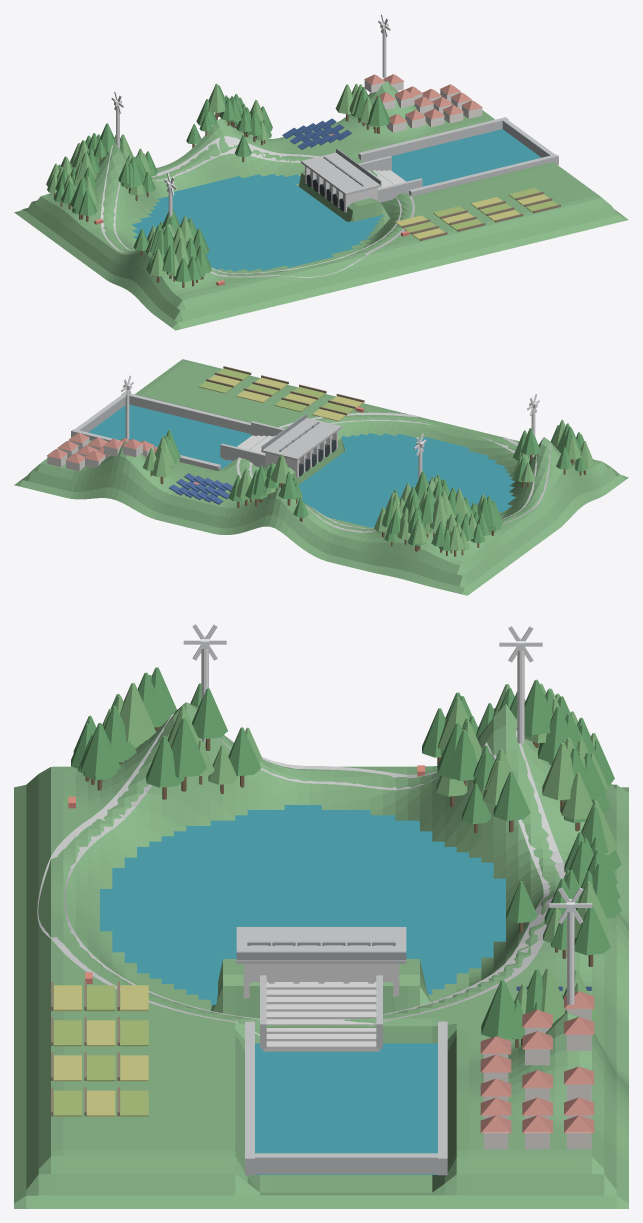
The model's file is dam.glb.
The picture shows the model from 3 angles, top to bottom: view 1: azimuth 30°, elevation 25°; view 2: azimuth 150°, elevation 25°; view 3: azimuth 270°, elevation 25°; orthographic projection. The views are drawn at different scales.
Visible parts, largest first — view 1: Terrain, Water_Surface_Reservoir, Trees, Water_Surface_Pool, RingRoad, PoolRim_N, Dam_Deck, PoolRim_S, PoolEnd, SpillWall_S; view 2: Terrain, Trees, Water_Surface_Reservoir, Water_Surface_Pool, Dam_Deck, PoolRim_S, RingRoad, PoolEnd, SpillWall_N, PoolRim_N, SpillWall_S; view 3: Terrain, Water_Surface_Reservoir, Trees, Water_Surface_Pool, RingRoad, Dam_Deck, PoolEnd, Dam_Body, PoolRim_N, PoolRim_S, Dam_Rail_N, SpillStep_09 (+6 smaller).
Part boxes in pixels (bbox=[...]): Terrain: bbox=[14, 81, 628, 330]; Water_Surface_Reservoir: bbox=[132, 174, 384, 271]; Trees: bbox=[46, 83, 390, 287]; Water_Surface_Pool: bbox=[391, 129, 541, 186]; RingRoad: bbox=[100, 136, 414, 277]; PoolRim_N: bbox=[358, 117, 508, 162]; Dam_Deck: bbox=[301, 152, 381, 195]; PoolRim_S: bbox=[409, 154, 558, 196]; PoolEnd: bbox=[500, 117, 557, 162]; SpillWall_S: bbox=[377, 178, 422, 202]; Terrain: bbox=[14, 359, 628, 595]; Trees: bbox=[142, 419, 594, 556]; Water_Surface_Reservoir: bbox=[276, 433, 516, 527]; Water_Surface_Pool: bbox=[88, 404, 251, 469]; Dam_Deck: bbox=[261, 418, 341, 460]; PoolRim_S: bbox=[121, 392, 250, 433]; RingRoad: bbox=[236, 412, 550, 532]; PoolEnd: bbox=[72, 393, 125, 434]; SpillWall_N: bbox=[220, 443, 265, 467]; PoolRim_N: bbox=[71, 429, 220, 469]; SpillWall_S: bbox=[251, 421, 284, 436]; Terrain: bbox=[14, 702, 628, 1208]; Water_Surface_Reservoir: bbox=[100, 805, 505, 1004]; Trees: bbox=[71, 667, 621, 1048]; Water_Surface_Pool: bbox=[255, 1043, 437, 1174]; RingRoad: bbox=[37, 713, 565, 1035]; Dam_Deck: bbox=[236, 927, 406, 963]; PoolEnd: bbox=[255, 1153, 437, 1174]; Dam_Body: bbox=[249, 964, 393, 982]; PoolRim_N: bbox=[438, 1021, 447, 1175]; PoolRim_S: bbox=[245, 1021, 254, 1175]; Dam_Rail_N: bbox=[236, 951, 406, 959]; SpillStep_09: bbox=[263, 1041, 379, 1051].
Size of the model in its own units: 120 by 32.3 by 74.
